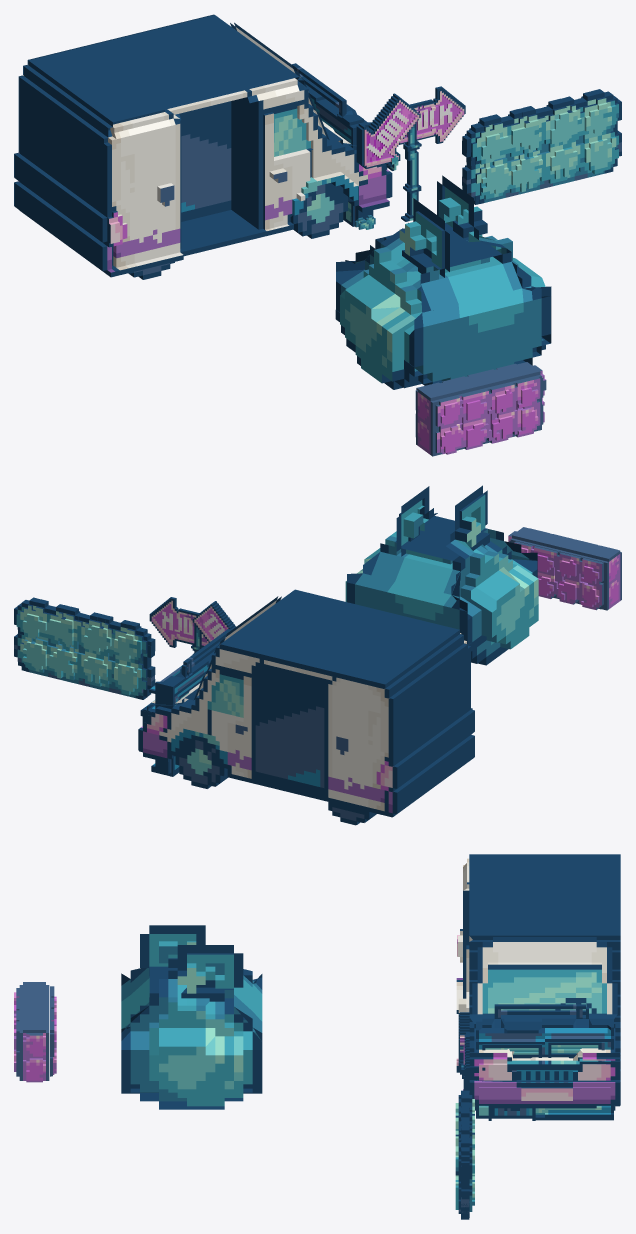
Rendered from arbusto_3d.fbx.
The picture shows the model from 3 angles, top to bottom: view 1: azimuth 30°, elevation 25°; view 2: azimuth 150°, elevation 25°; view 3: azimuth 270°, elevation 25°; orthographic projection. The views are drawn at different scales.
Visible parts, largest first — view 1: camioneta_lado.png, loot2.png.001, loot1.png, 5.png.001, 4.png, valla1.png.001, loot1.png.001, valla2.png.002, 5.png, house_test.png.001, camioneta_front.png, loot2.png; view 2: camioneta_lado.png.001, camioneta_lado.png, loot1.png, 5.png, loot2.png, valla1.png.002, 4.png, house_test.png.001, valla2.png.002, 5.png.001, loot2.png.001, loot1.png.001 (+1 smaller); view 3: camioneta_front.png, loot1.png.001, camioneta_lado.png, house_test.png.001, valla2.png.002, loot2.png.001, loot1.png, 5.png.001, loot2.png, 5.png, 4.png, valla1.png.002 (+1 smaller).
Boxes of the visible parts, x1,y1,x2,y2 form: camioneta_lado.png: (14, 15, 390, 279); loot2.png.001: (335, 226, 550, 385); loot1.png: (336, 198, 449, 389); 5.png.001: (462, 89, 621, 204); 4.png: (356, 86, 465, 221); valla1.png.001: (435, 377, 540, 454); loot1.png.001: (341, 175, 551, 389); valla2.png.002: (416, 362, 546, 456); 5.png: (462, 89, 621, 203); house_test.png.001: (291, 63, 373, 226); camioneta_front.png: (230, 22, 392, 223); loot2.png: (345, 225, 489, 274); camioneta_lado.png.001: (139, 645, 396, 825); camioneta_lado.png: (139, 589, 474, 824); loot1.png: (446, 485, 538, 656); 5.png: (14, 597, 155, 695); loot2.png: (347, 532, 489, 644); valla1.png.002: (513, 540, 606, 610); 4.png: (149, 597, 235, 654); house_test.png.001: (140, 629, 231, 776); valla2.png.002: (508, 527, 621, 610); 5.png.001: (14, 598, 154, 699); loot2.png.001: (394, 516, 537, 651); loot1.png.001: (345, 486, 508, 665); camioneta_front.png: (469, 937, 619, 1110); loot1.png.001: (121, 945, 262, 1109); camioneta_lado.png: (456, 854, 620, 1105); house_test.png.001: (469, 1004, 620, 1120); valla2.png.002: (19, 982, 49, 1082); loot2.png.001: (121, 966, 262, 1093); loot1.png: (140, 925, 262, 1014); 5.png.001: (455, 1091, 469, 1217); loot2.png: (224, 969, 262, 1041); 5.png: (461, 1090, 474, 1219); 4.png: (456, 1012, 469, 1090); valla1.png.002: (50, 986, 56, 1076).
Size of the model in its own units: 5694 by 1764 by 6471.
